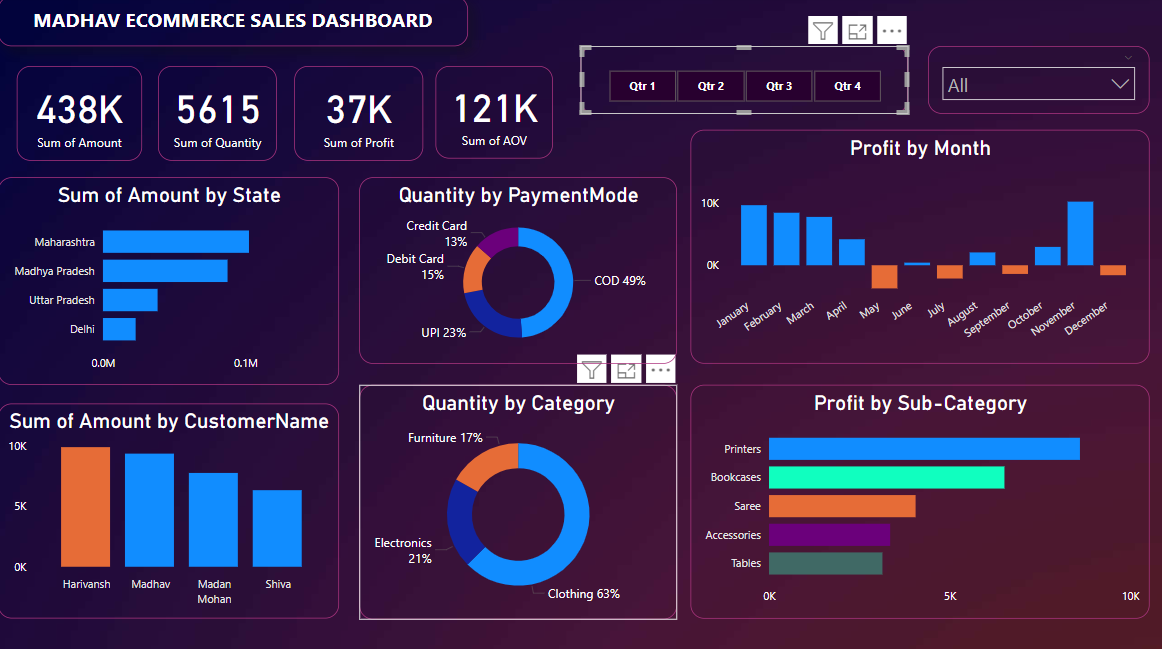

This screenshot's page, from the dashboard's own definition file:
{"tool":"powerbi","page":{"name":"Page 1","canvas":[1280,720],"ordinal":0},"visuals":[{"type":"textbox","box":[0,0,516,54.9],"z":0},{"type":"columnChart","title":"Profit by Month","fields":{"Category":["Orders.Order Date.Variation.Date Hierarchy.Month"],"Y":["Details.Profit"]},"box":[760.2,146.8,503.6,256.6],"z":1000},{"type":"barChart","title":"Profit by Sub-Category","fields":{"Category":["Details.Sub-Category"],"Y":["Details.Profit"]},"box":[760.2,426.8,503.6,256.6],"z":2000},{"type":"donutChart","title":" Quantity by Category","fields":{"Y":["Details.Quantity"],"Category":["Details.Category"]},"box":[396.6,426.8,348.5,258],"z":3000},{"type":"donutChart","title":"Quantity by PaymentMode","fields":{"Y":["Details.Quantity"],"Category":["Details.PaymentMode"]},"box":[396.6,199,348.5,204.5],"z":4000},{"type":"card","fields":{"Values":["Details.Amount"]},"box":[20.6,76.8,137.2,104.3],"z":5000},{"type":"card","fields":{"Values":["Details.Quantity"]},"box":[175.6,76.8,130.4,104.3],"z":6000},{"type":"card","fields":{"Values":["Details.Profit"]},"box":[325.2,76.8,141.3,104.3],"z":7000},{"type":"card","fields":{"Values":["Details.AOV"]},"box":[480.3,76.8,129,101.5],"z":8000},{"type":"clusteredBarChart","fields":{"Category":["Orders.State"],"Y":["Details.Amount"]},"box":[0,199,374.6,227.8],"z":9000},{"type":"columnChart","fields":{"Category":["Orders.CustomerName"],"Y":["Details.Amount"]},"box":[0,447.3,374.6,236],"z":10000},{"type":"slicer","fields":{"Values":["Orders.Order Date.Variation.Date Hierarchy.Quarter"]},"box":[639.5,54.9,359.5,74.1],"z":11000},{"type":"slicer","fields":{"Values":["Orders.State"]},"box":[1020.9,54.9,242.9,74.1],"z":12000}]}

Visuals, with their boxes in screenshot pixels (x1, y1, x2, y2), scaled from the page's 1280x720 canvas onto the 1162x649 screenshot:
textbox: box(0, 0, 468, 49)
"Profit by Month" columnChart: box(690, 132, 1147, 364)
"Profit by Sub-Category" barChart: box(690, 385, 1147, 616)
" Quantity by Category" donutChart: box(360, 385, 676, 617)
"Quantity by PaymentMode" donutChart: box(360, 179, 676, 364)
card - Details.Amount: box(19, 69, 143, 163)
card - Details.Quantity: box(159, 69, 278, 163)
card - Details.Profit: box(295, 69, 423, 163)
card - Details.AOV: box(436, 69, 553, 161)
clusteredBarChart - Orders.State x Details.Amount: box(0, 179, 340, 385)
columnChart - Orders.CustomerName x Details.Amount: box(0, 403, 340, 616)
slicer - Orders.Order Date.Variation.Date Hierarchy.Quarter: box(581, 49, 907, 116)
slicer - Orders.State: box(927, 49, 1147, 116)
